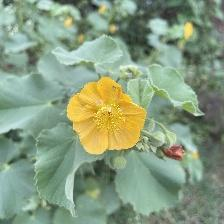indian mallow: (68, 80, 149, 156)
